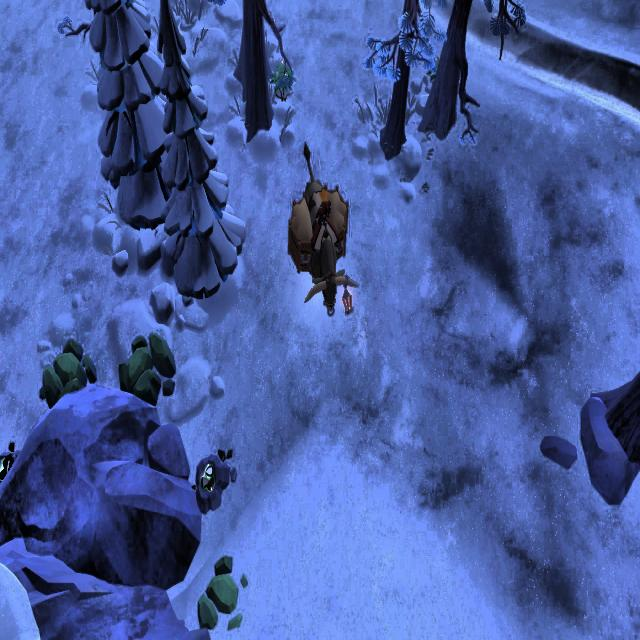fiber_t3: (269, 60, 295, 106)
rock_t3: (190, 547, 248, 634), (117, 330, 178, 411), (42, 334, 98, 410)
